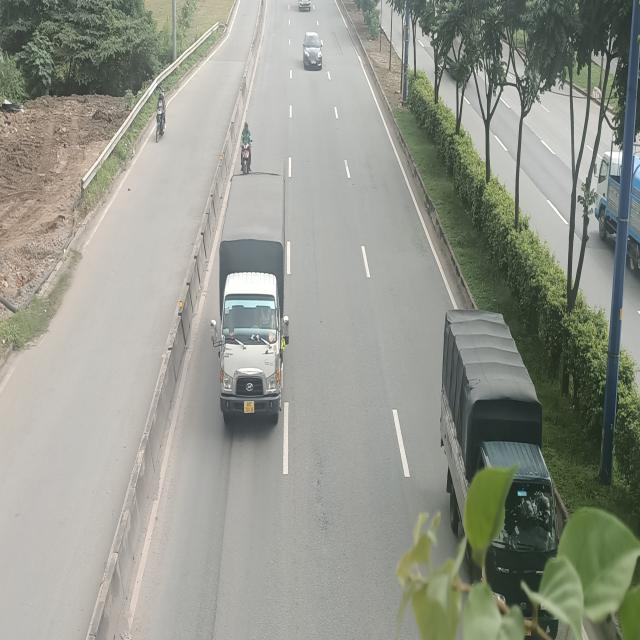car: (303, 32, 324, 71)
truck: (212, 165, 292, 422)
